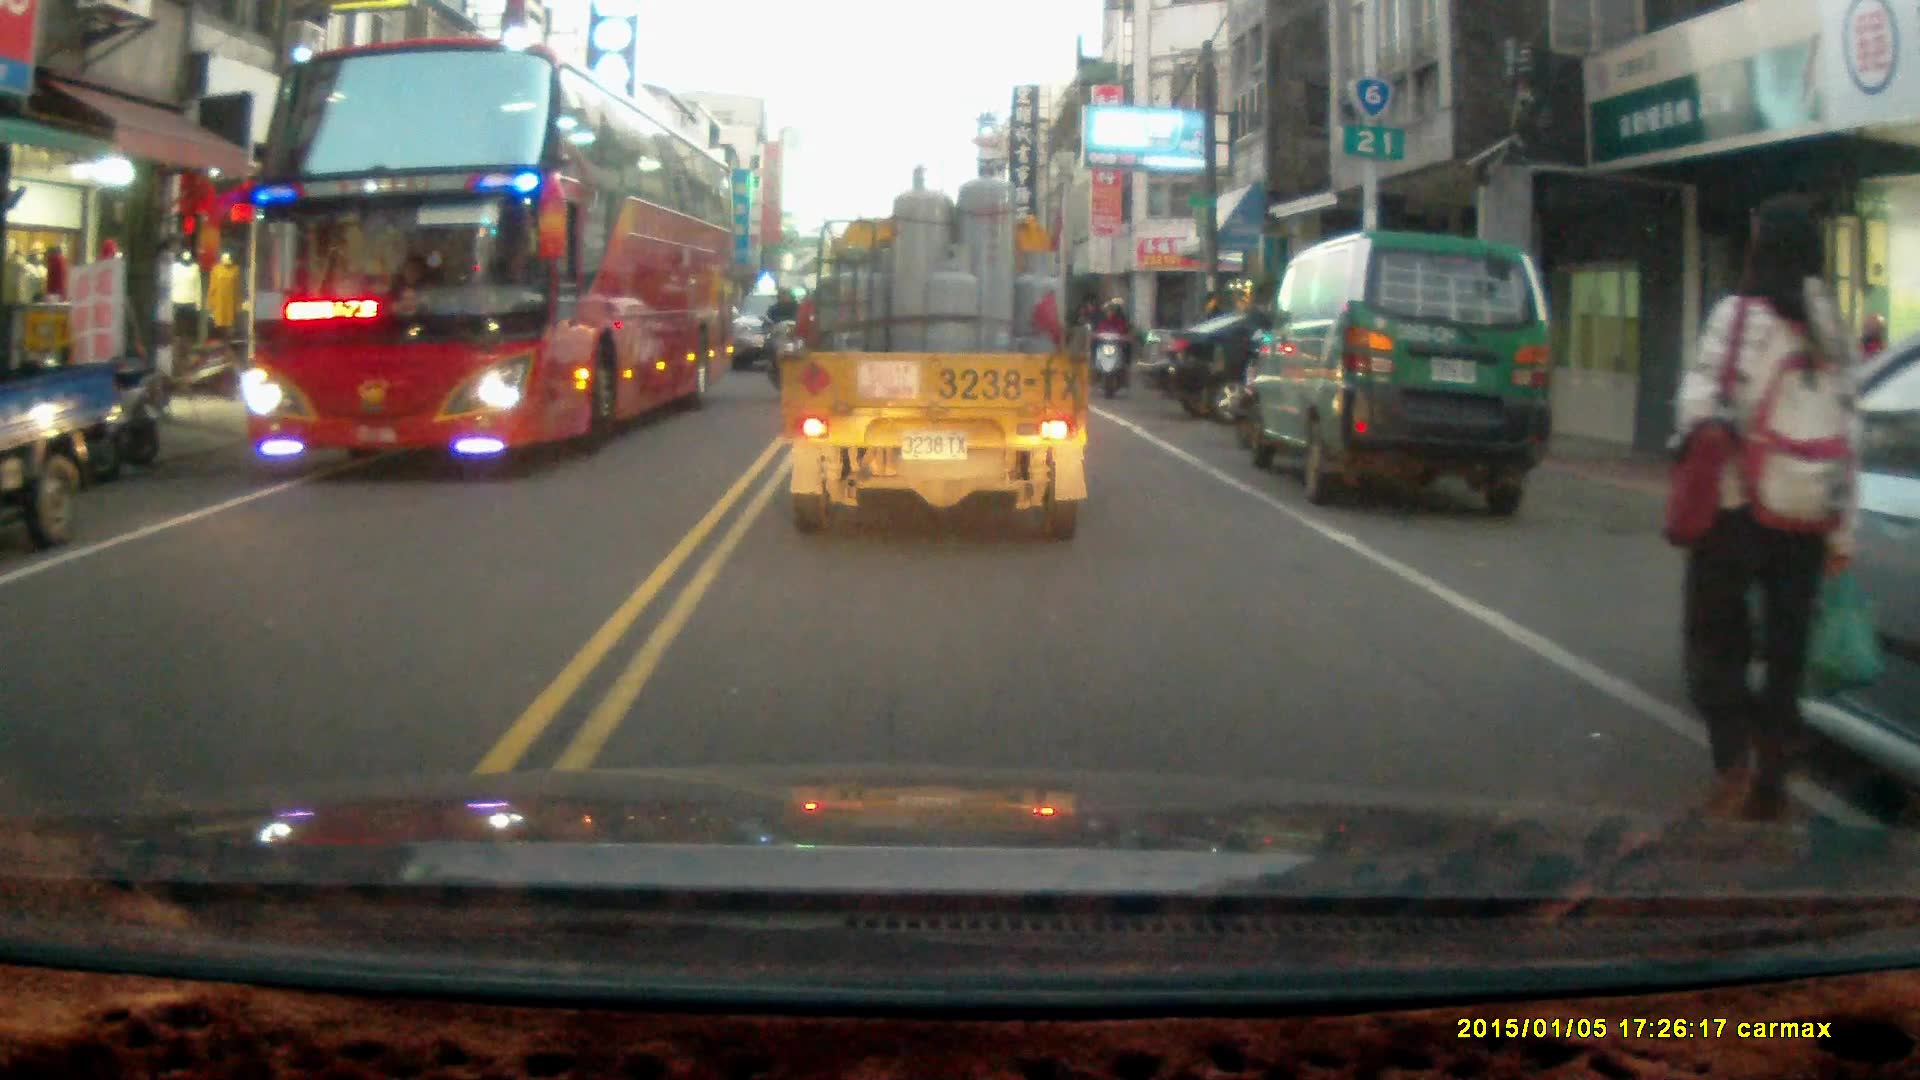pedestrian: (1666, 192, 1863, 843)
rider: (759, 286, 822, 412), (1086, 294, 1134, 397)
vehicle: (240, 37, 741, 466), (785, 155, 1094, 540), (1247, 226, 1556, 509), (1135, 304, 1448, 416), (1, 363, 122, 551), (722, 292, 843, 377)
